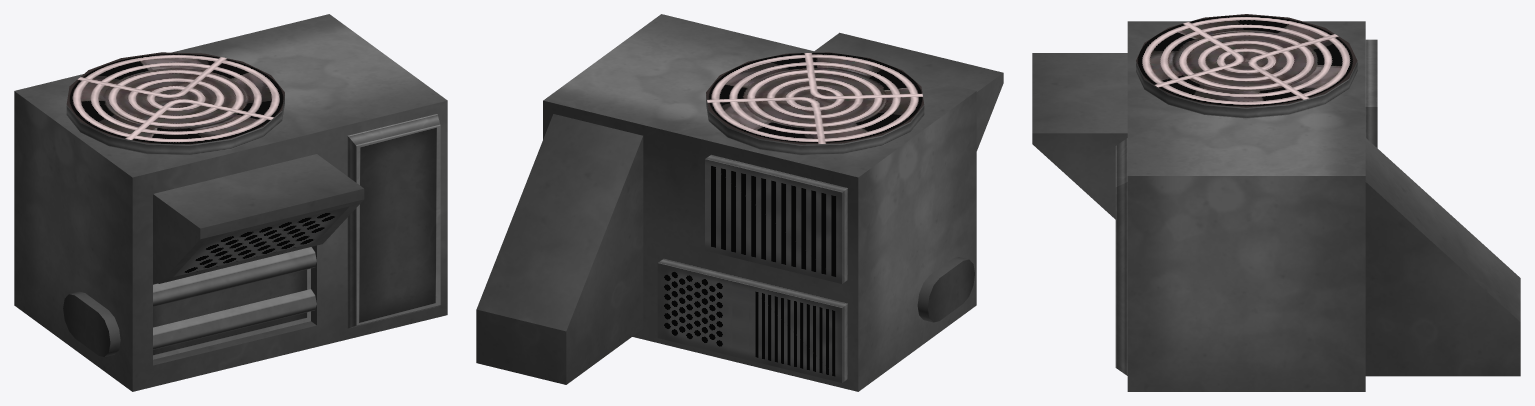
Rendered from AcUnit2.fbx.
The picture shows the model from 3 angles, left to right: view 1: azimuth 30°, elevation 25°; view 2: azimuth 150°, elevation 25°; view 3: azimuth 270°, elevation 25°; orthographic projection.
Visible parts, largest first — view 1: Cube; view 2: Cube; view 3: Cube.
Boxes of the visible parts, x1=… form: Cube: x1=14, y1=14, x2=447, y2=391; Cube: x1=476, y1=14, x2=1003, y2=391; Cube: x1=1032, y1=14, x2=1520, y2=391.
Size of the model in its own units: 2.07 by 1.36 by 2.66.
